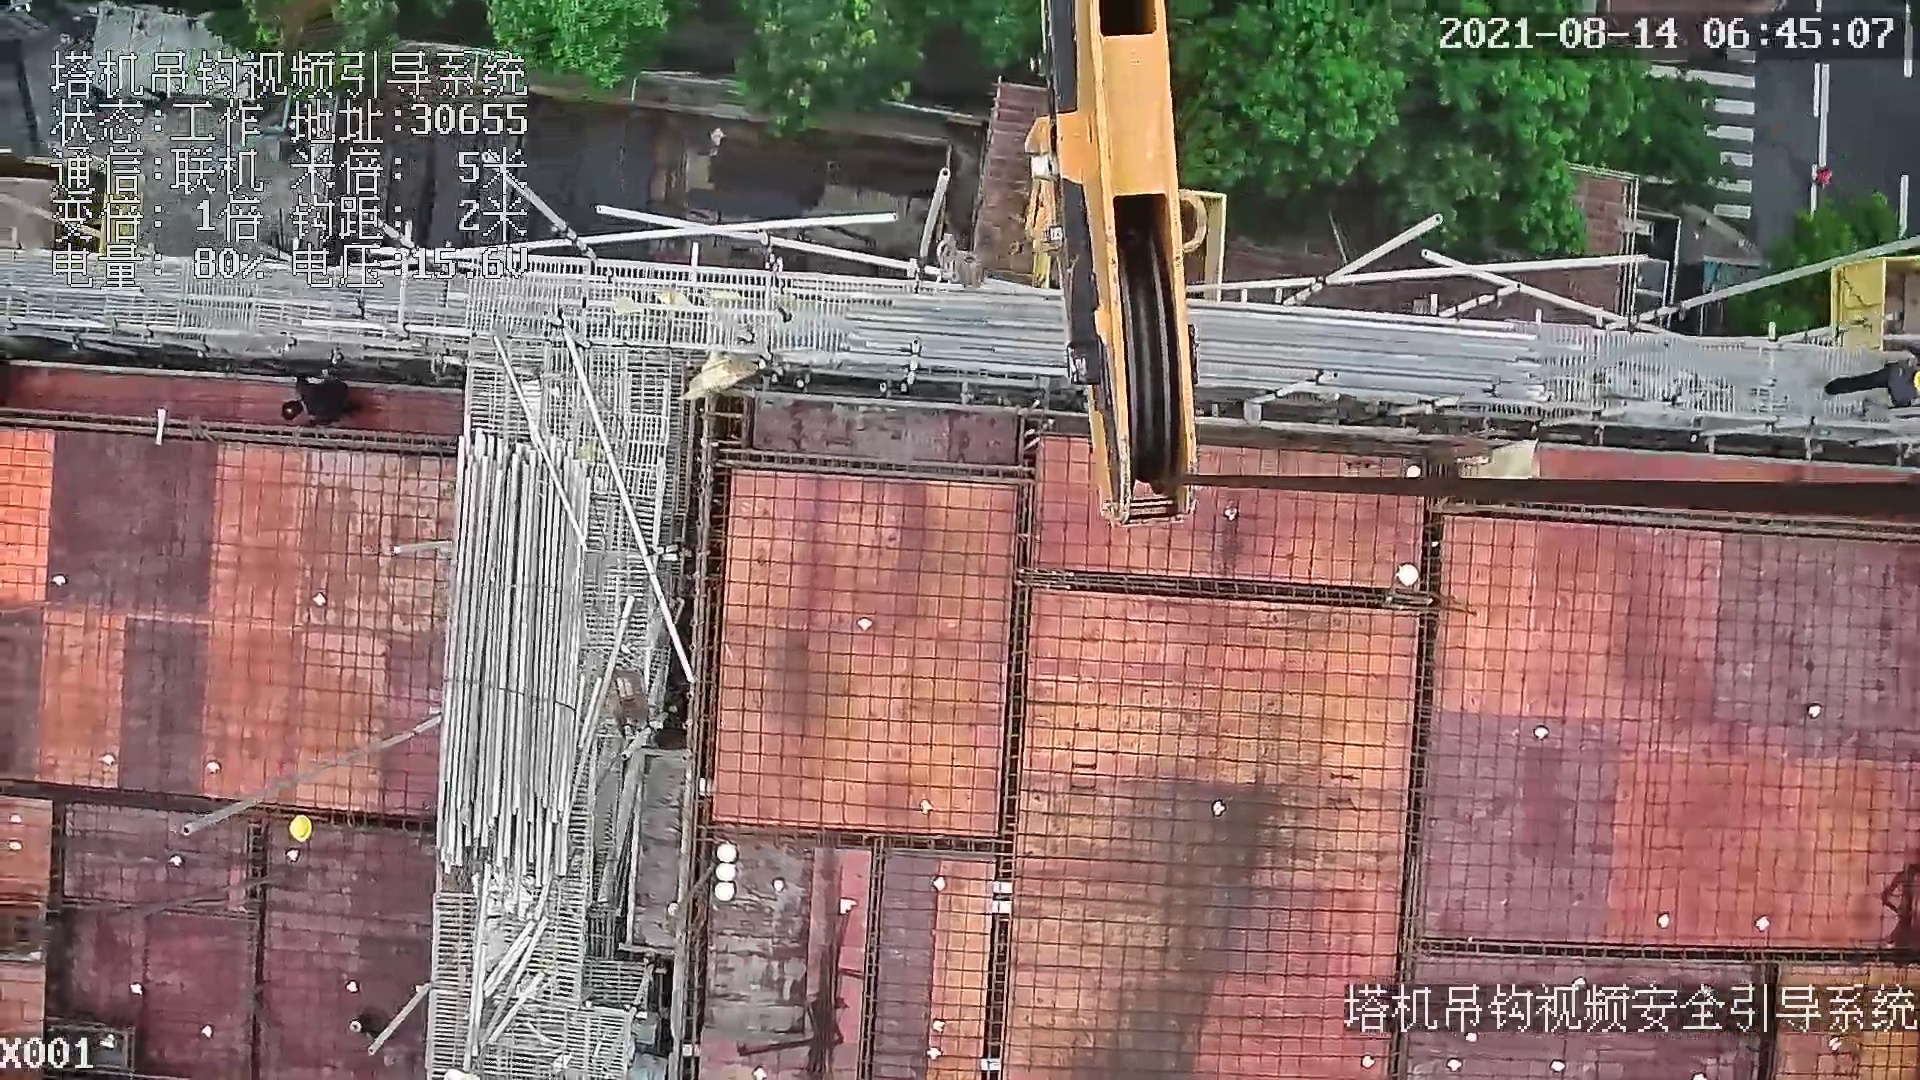helmet: (281, 811, 315, 843)
hook: (1005, 1, 1210, 532)
person: (1826, 351, 1920, 409), (277, 374, 369, 430)
